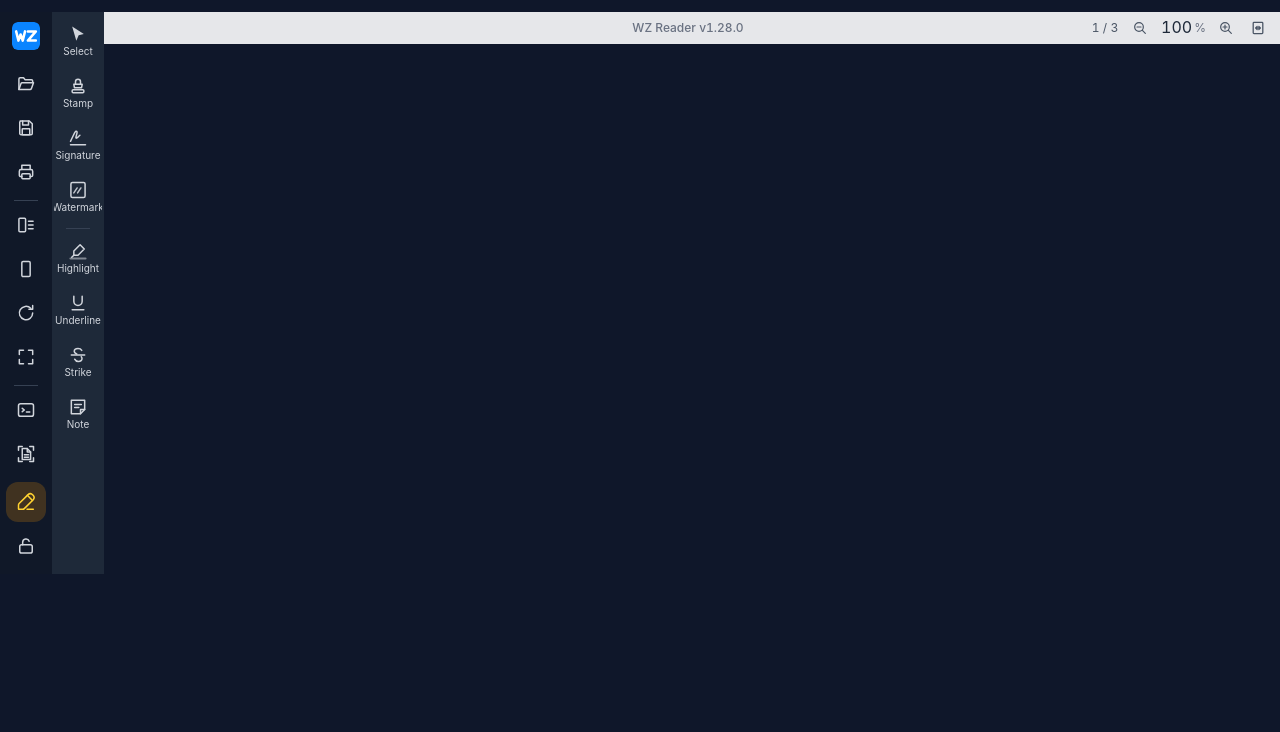
Test case: ActionBar OCR control › cannot start another run while one is running
Click the button named "Recognize text (OCR)" at (26, 454), box [6,434,46,474]
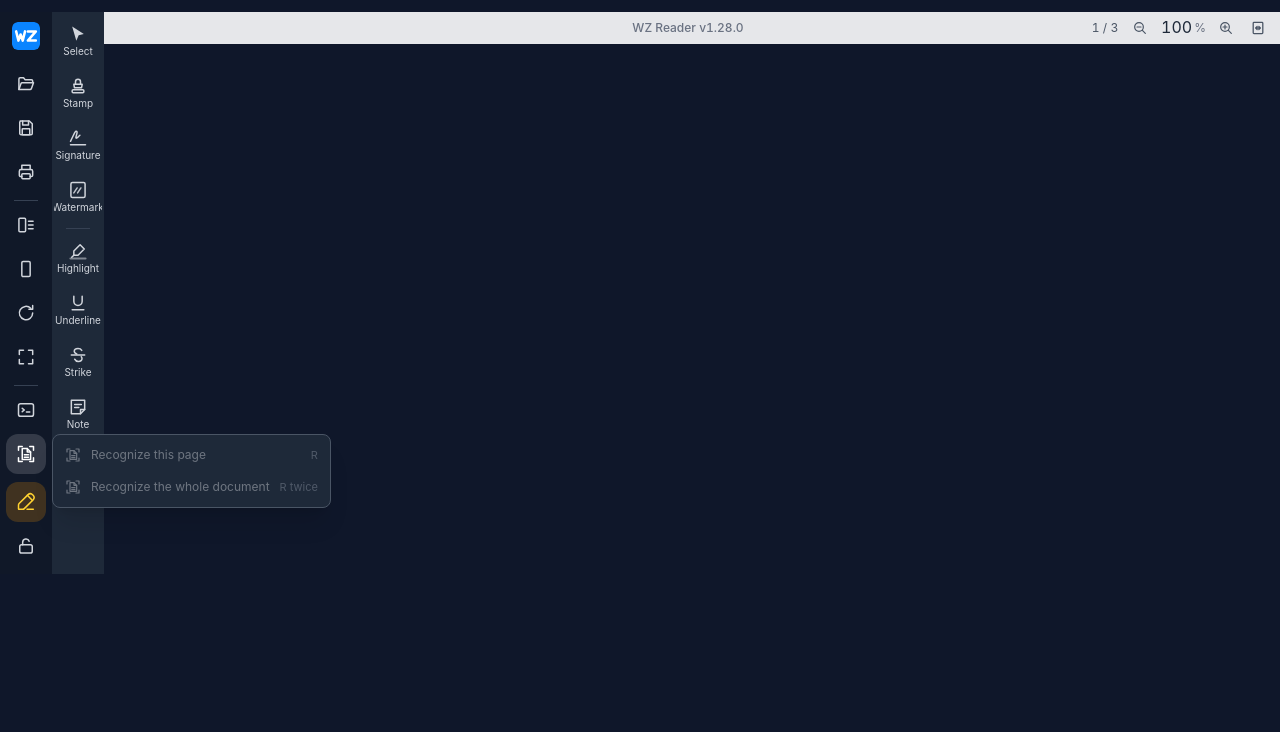
Expected: the menu item "Recognize this page R" is disabled, [53,439,330,471]
